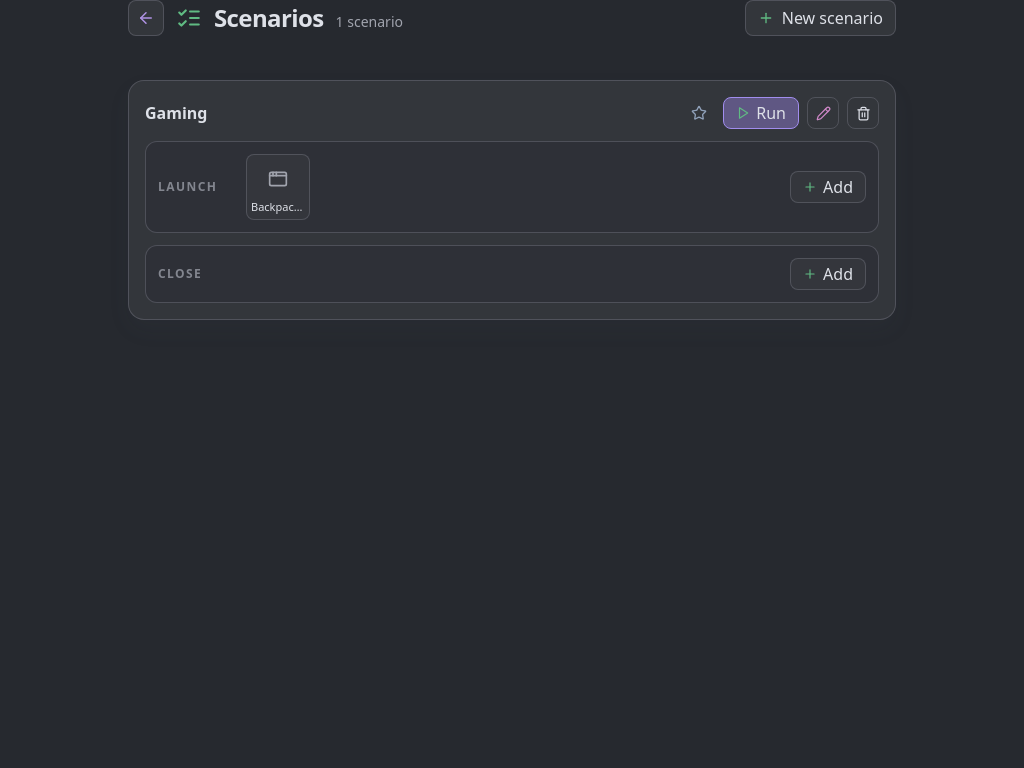
ScenariosPage › asks before deleting a scenario and does nothing when refused
Click the button named "Delete Gaming". click: (863, 113)
box: top-left (847, 97), bottom-right (879, 129)
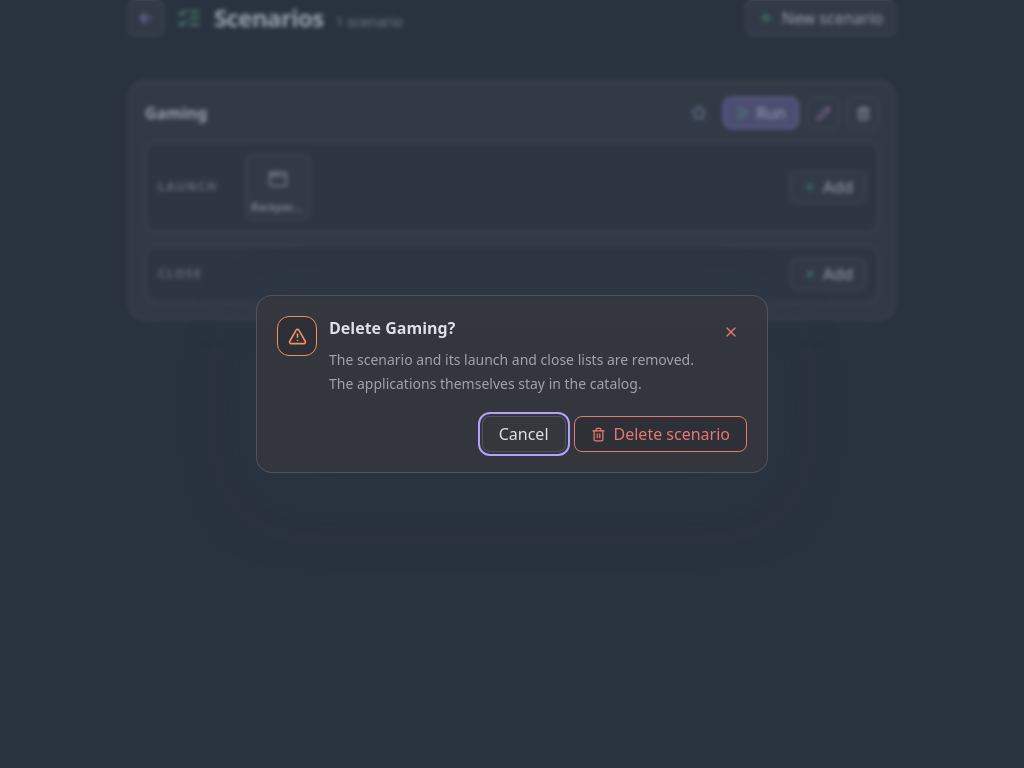
Click the button "Cancel". click: (524, 434)
box: top-left (482, 416), bottom-right (566, 452)
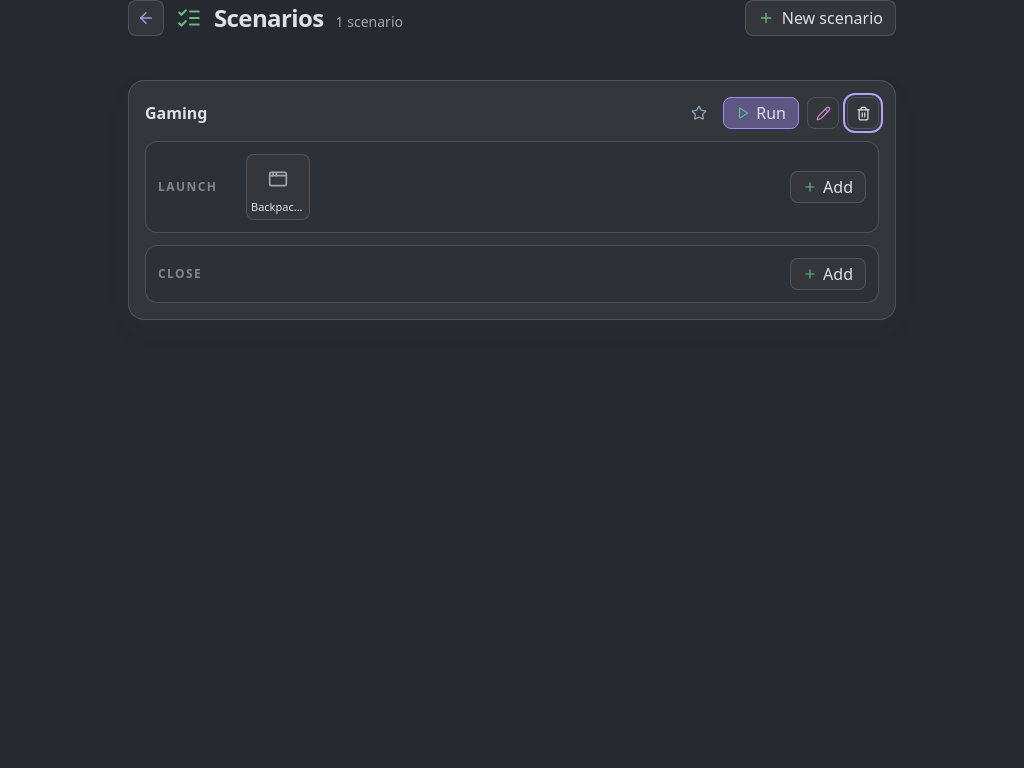
Result: the dialog is gone
